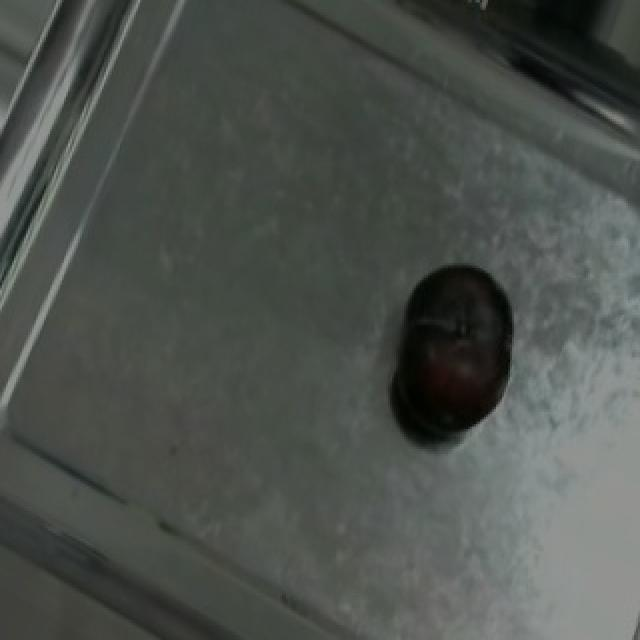Fruit: (382, 240, 534, 457)
